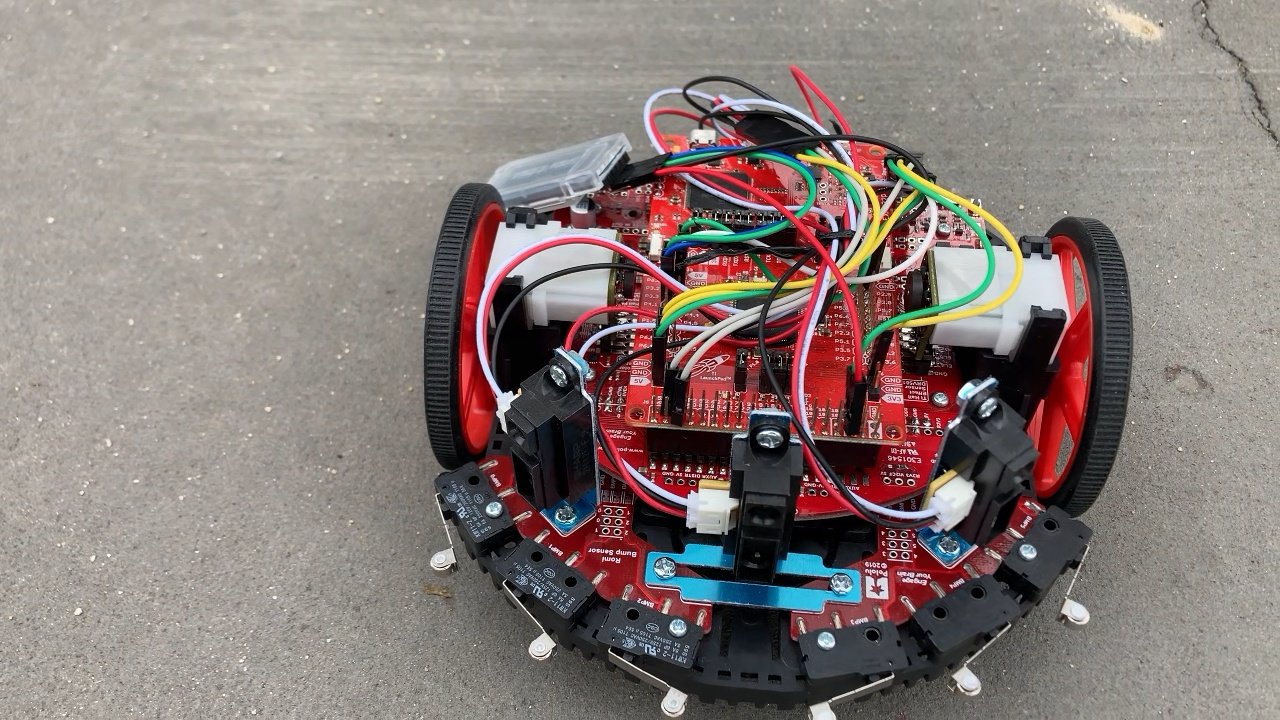robot: (411, 64, 1142, 720)
